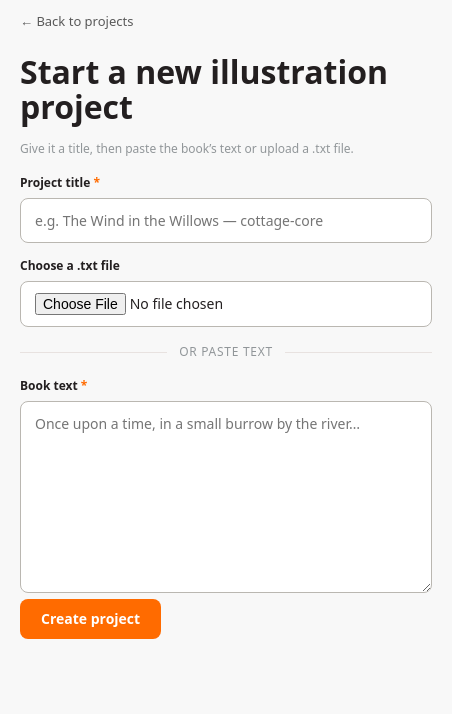
Test case: a missing title or empty text blocks submission
Click the button "Create project".
click(91, 619)  # box [20,599,161,639]
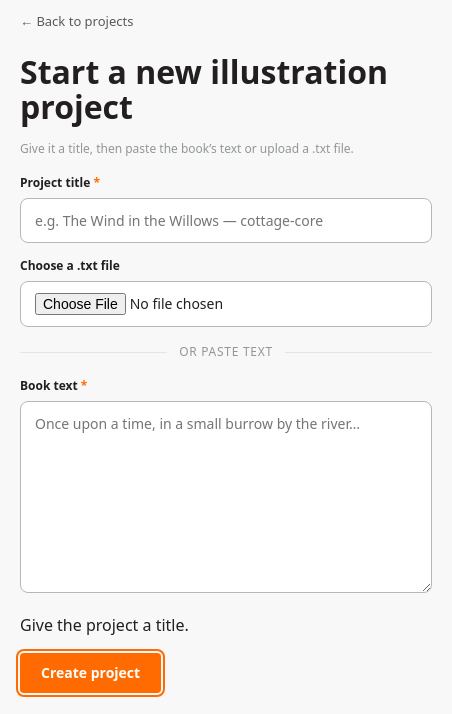
Result: the message shows "title" at [20,614,189,636]
Type "Willows" into the field labelled "Project title *".
click(226, 221); type("Willows")  # box [20,198,432,243]
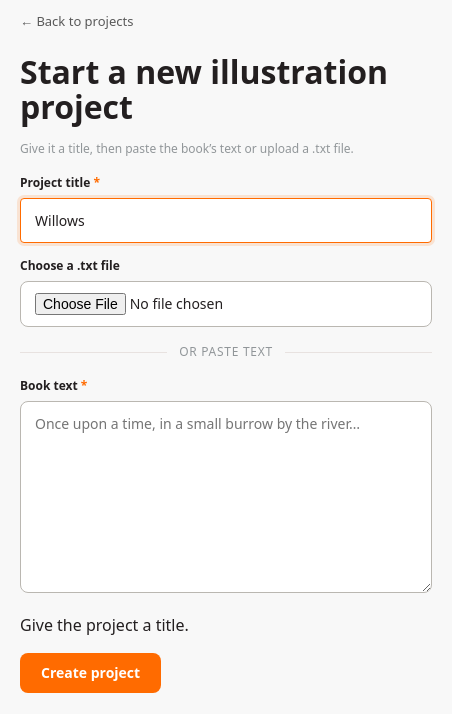
Click the button "Create project".
click(91, 673)  # box [20,653,161,693]
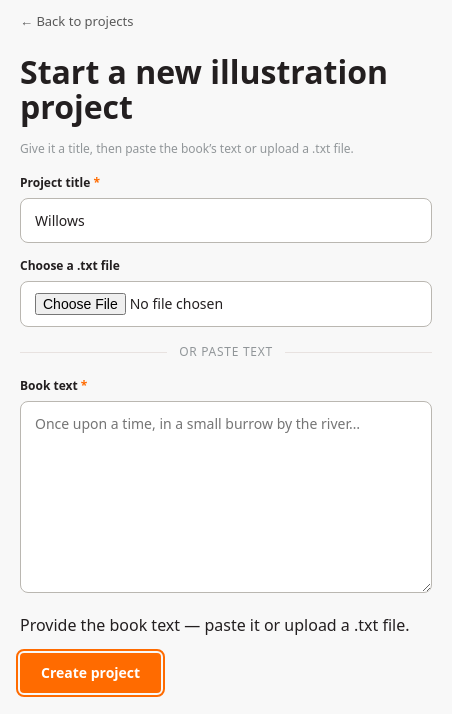
Result: the message shows "book text" at [20,614,410,636]
